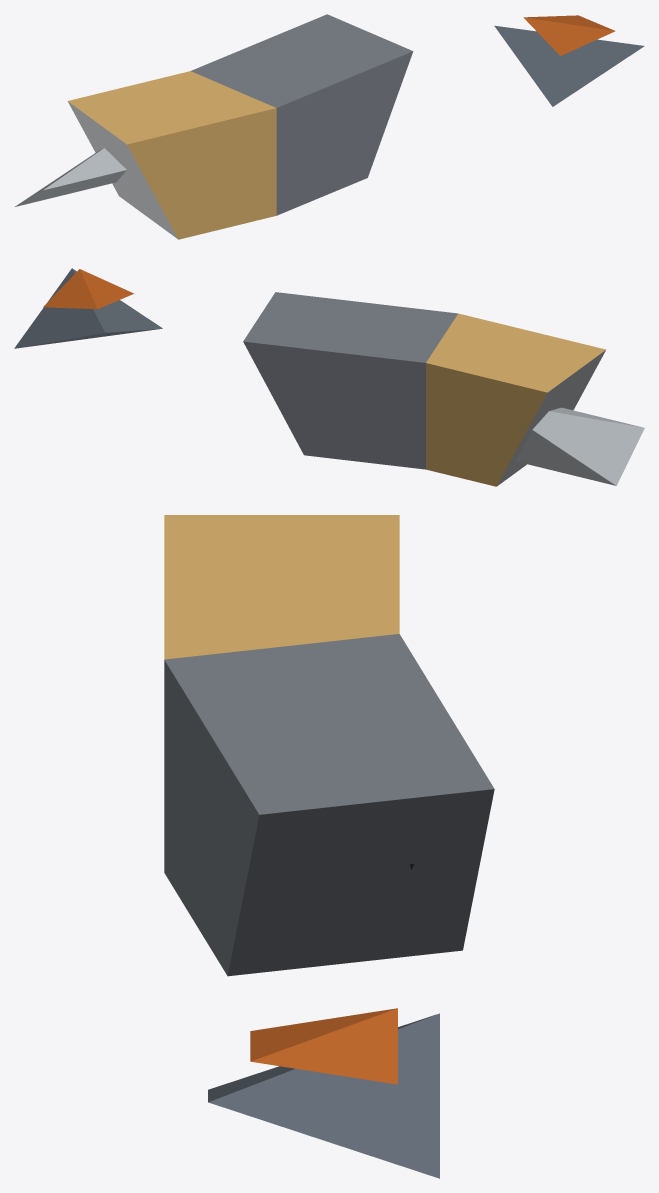
The model's file is prosthesis-arm.lod.glb.
3 views of the same model, one above another, from view 1: azimuth 30°, elevation 25°; view 2: azimuth 150°, elevation 25°; view 3: azimuth 270°, elevation 25° (orthographic). The views are drawn at different scales.
Parts seen in each view (by area): view 1: prosthesis-arm; view 2: prosthesis-arm; view 3: prosthesis-arm.
Part boxes in pixels (bbox=[...]): prosthesis-arm: bbox=[15, 14, 644, 239]; prosthesis-arm: bbox=[14, 268, 644, 486]; prosthesis-arm: bbox=[164, 515, 494, 1178].
Size of the model in its own units: 0.64 by 0.1116 by 0.1566.
